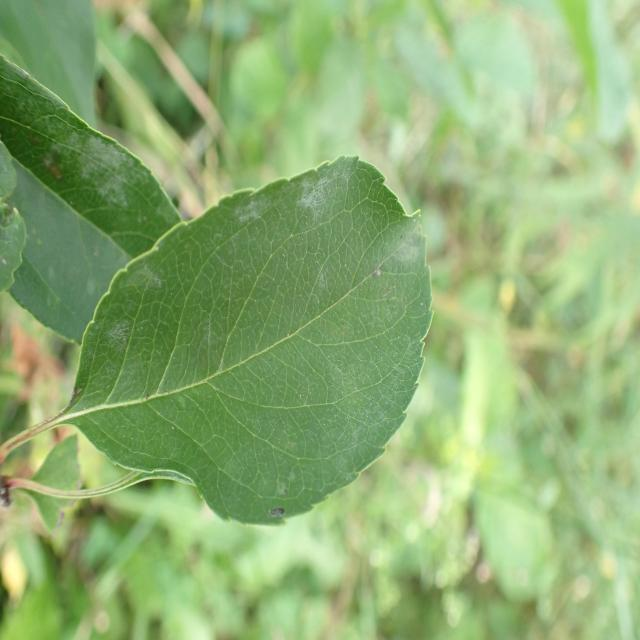Powdery_mildew: (25, 154, 475, 509), (0, 51, 191, 362)
